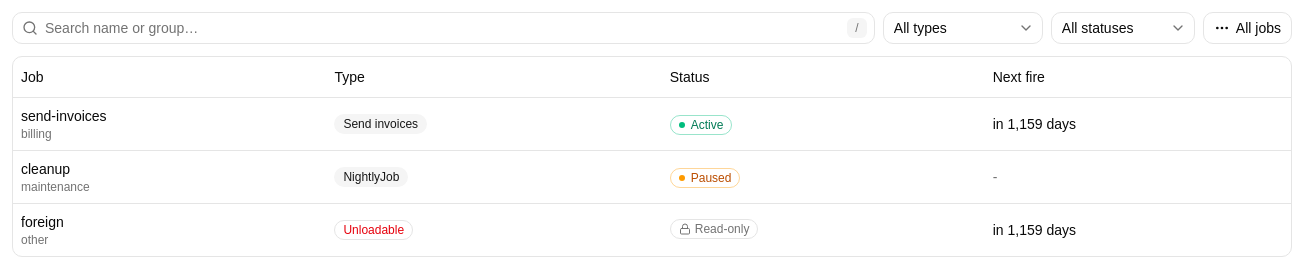
Test: JobsTable › lets a read-only user export the jobs, but not import them
Step 1. Click the button "All jobs" → (1247, 28), box [1203, 12, 1292, 44]
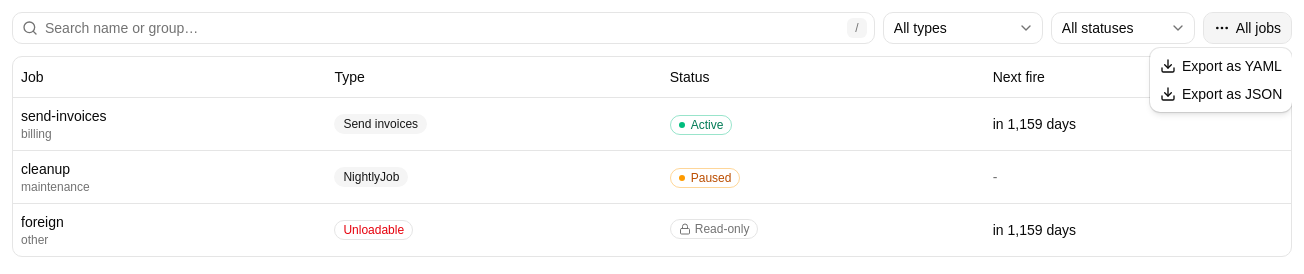
Now the menu items read "Export as YAML", "Export as JSON", in this order, box [1160, 58, 1282, 74]; [1160, 86, 1282, 102]
